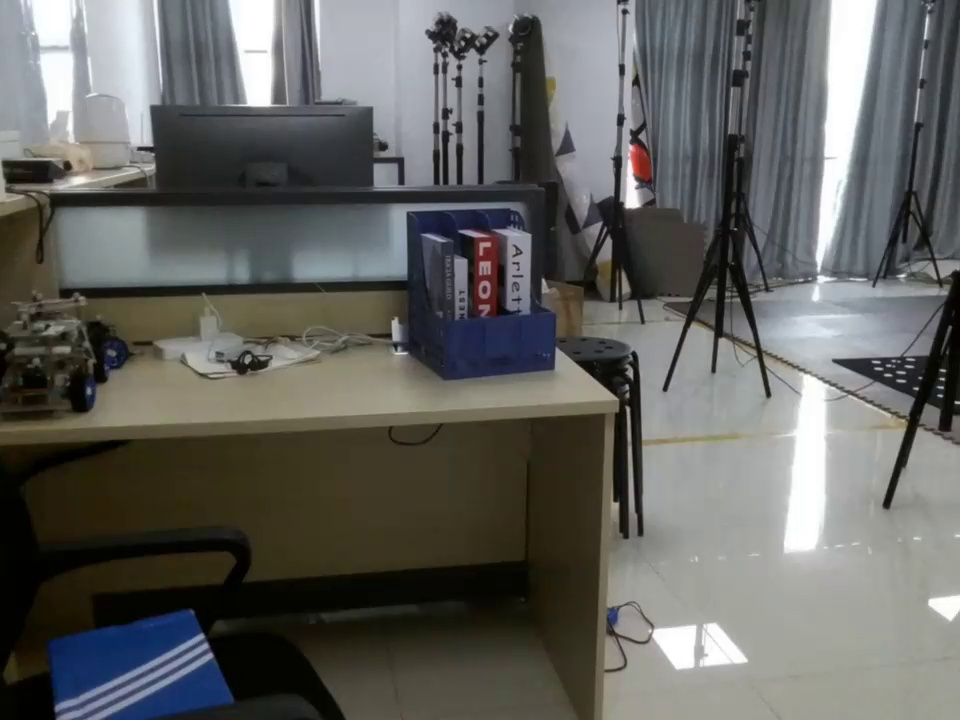files: (402, 207, 560, 383)
